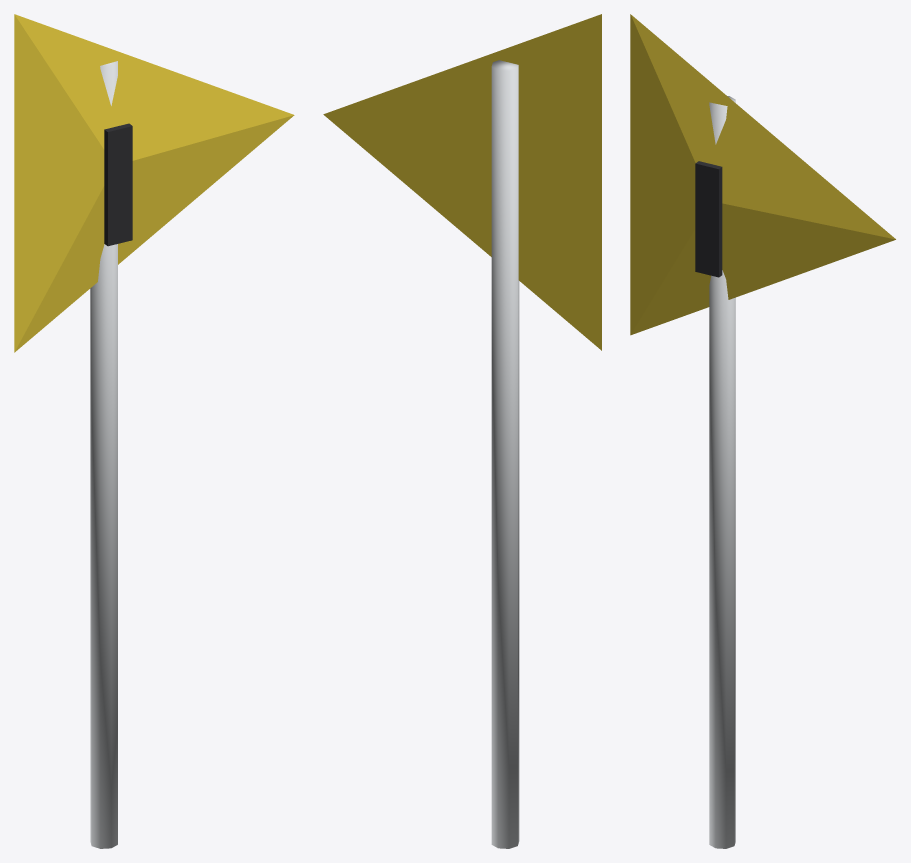
Rendered from sign_danger.glb.
The picture shows the model from 3 angles, left to right: view 1: azimuth 30°, elevation 25°; view 2: azimuth 150°, elevation 25°; view 3: azimuth 330°, elevation 25°; orthographic projection. The views are drawn at different scales.
Parts seen in each view (by area): view 1: Sign.002; view 2: Sign.002; view 3: Sign.002.
Boxes of the visible parts, left/top/right/bottom form: Sign.002: left=14, top=14, right=294, bottom=848; Sign.002: left=323, top=14, right=601, bottom=848; Sign.002: left=630, top=14, right=895, bottom=848.
Bounding box in the file's own units: 0.9 × 2.62 × 0.13.
